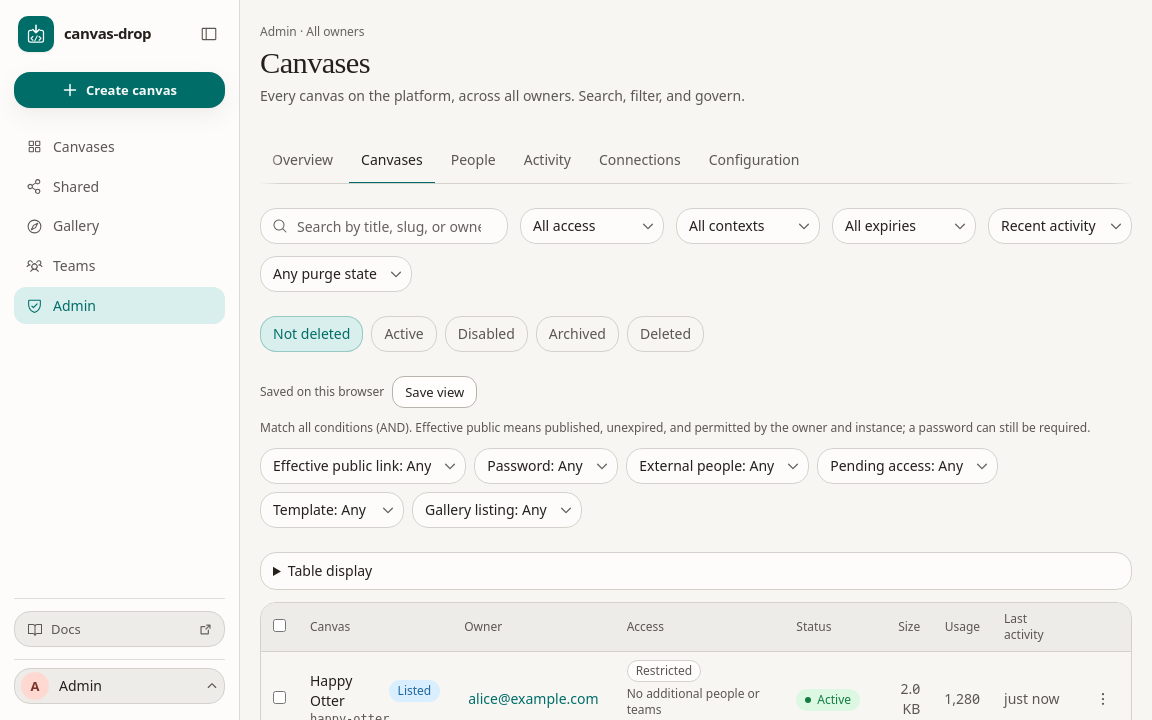
admin dashboard › filters the Canvases table with exposure conditions
expect the button "Happy Otter" is shown: met, box [310, 671, 381, 711]
Click the dropdown labelled "External people": {"x": 718, "y": 466} [626, 448, 809, 484]
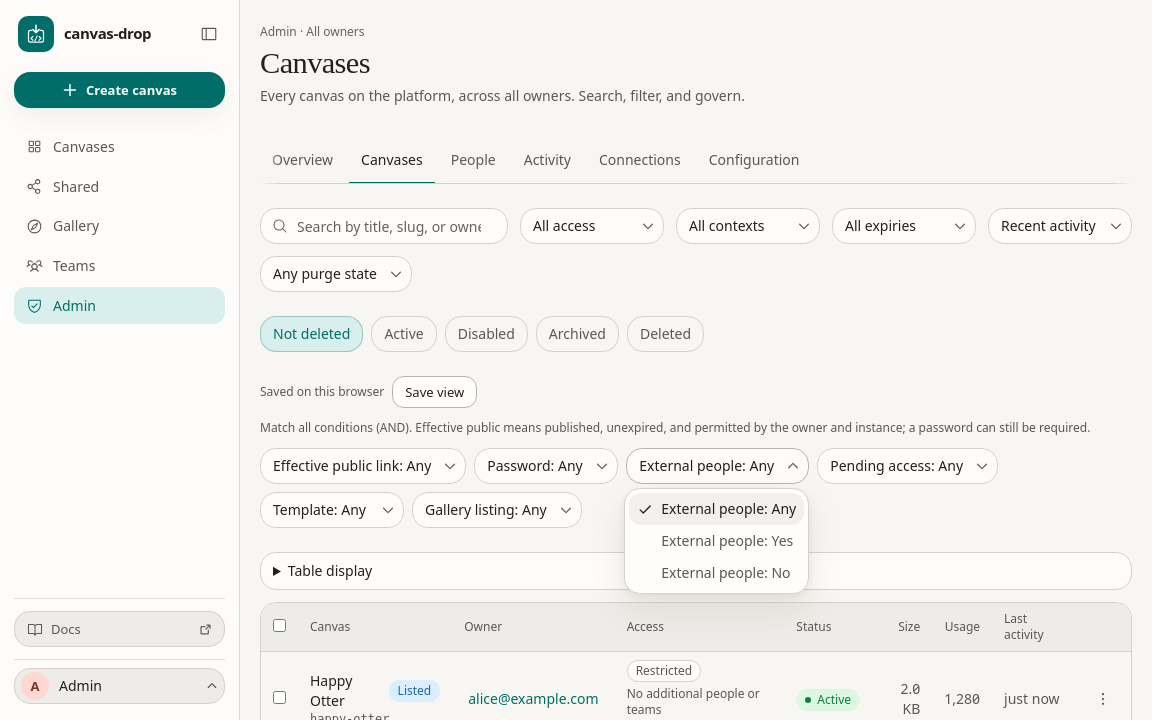
Click the option "External people: Yes": {"x": 717, "y": 541} [629, 525, 804, 557]
(page scrolled)
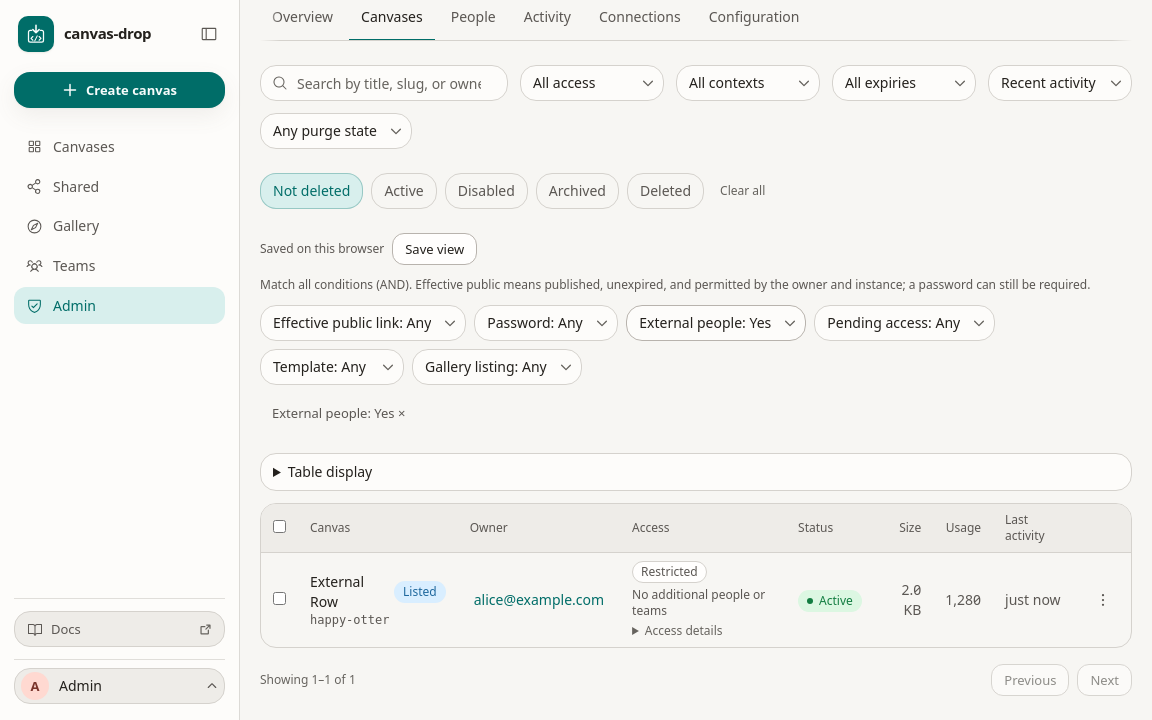
expect the button "External Row" is shown: met, box [310, 572, 386, 612]
